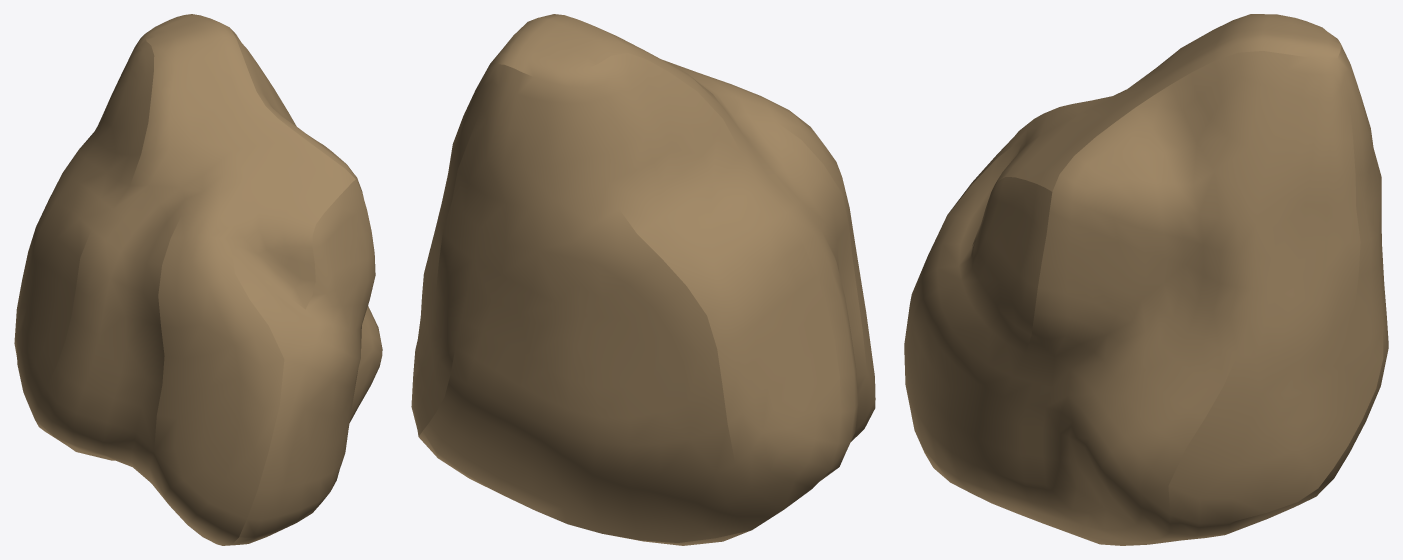
Rendered from MM_Rock_02.fbx.
The picture shows the model from 3 angles, left to right: view 1: azimuth 30°, elevation 25°; view 2: azimuth 150°, elevation 25°; view 3: azimuth 270°, elevation 25°; orthographic projection. The views are drawn at different scales.
Visible parts, largest first — view 1: rock_2; view 2: rock_2; view 3: rock_2.
Part boxes in pixels (<box>): rock_2: <box>14,14,382,545</box>; rock_2: <box>411,14,875,545</box>; rock_2: <box>904,14,1388,545</box>.
Bounding box in the file's own units: 189 × 250 × 206.
